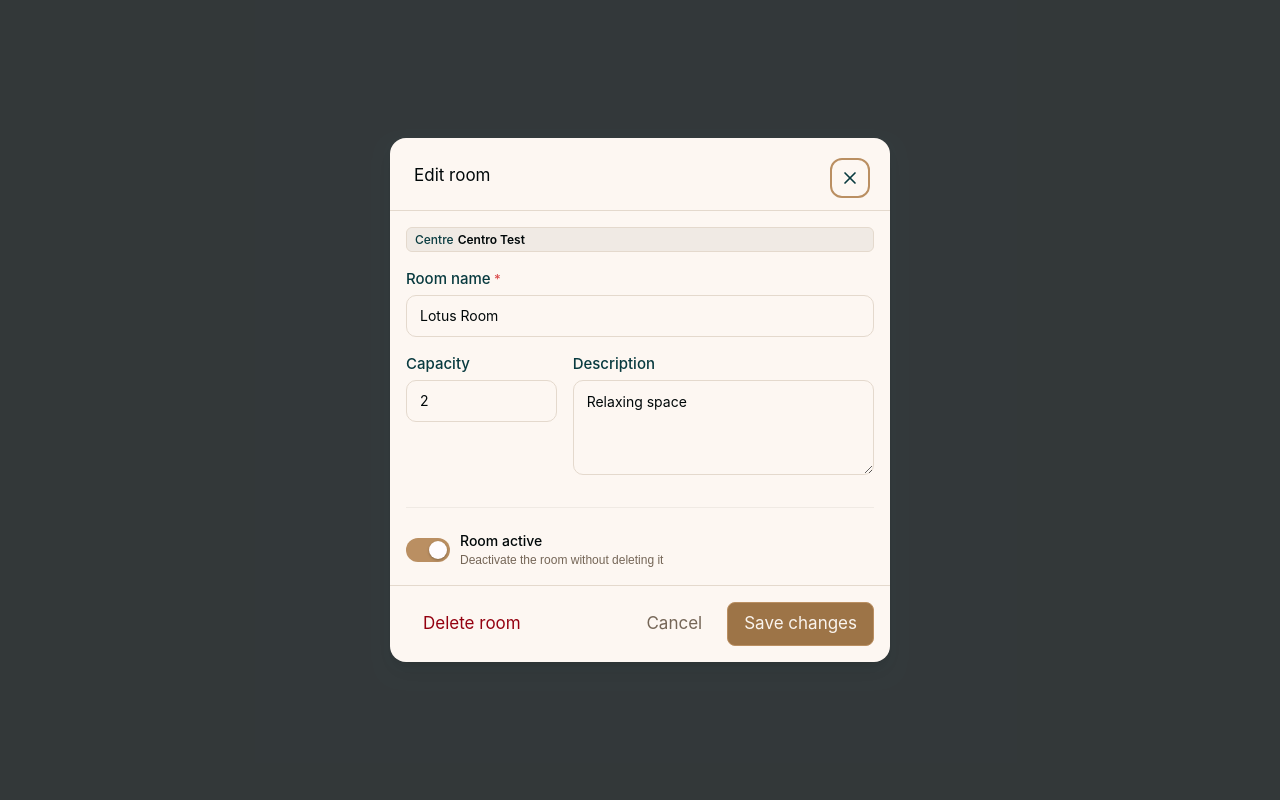
Test case: SalaModal — delete flow (no active citas) › opens the confirmation Dialog when no active citas
Click the button "Delete room".
click(472, 624)  # box [406,602,538,646]
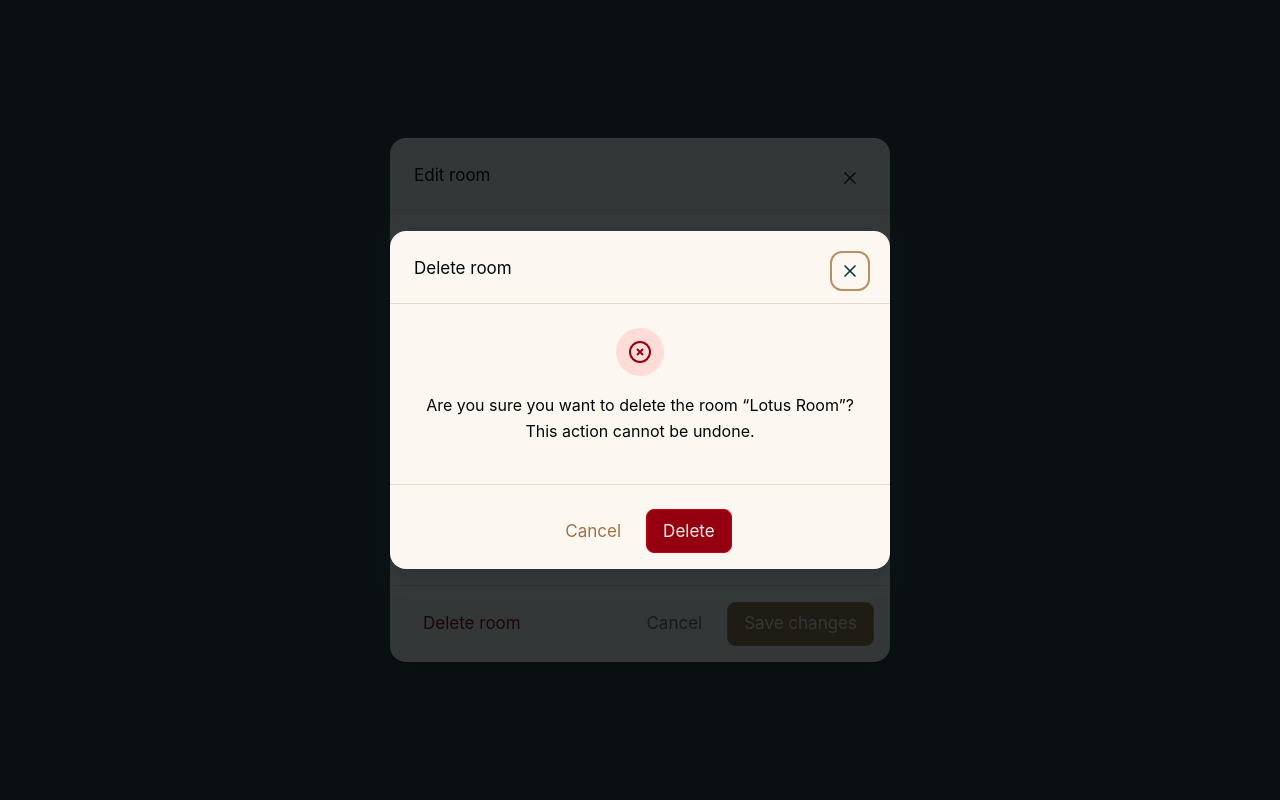
Check: the text "Are you sure you want to delete the room" is shown, box [426,395,854,441]
